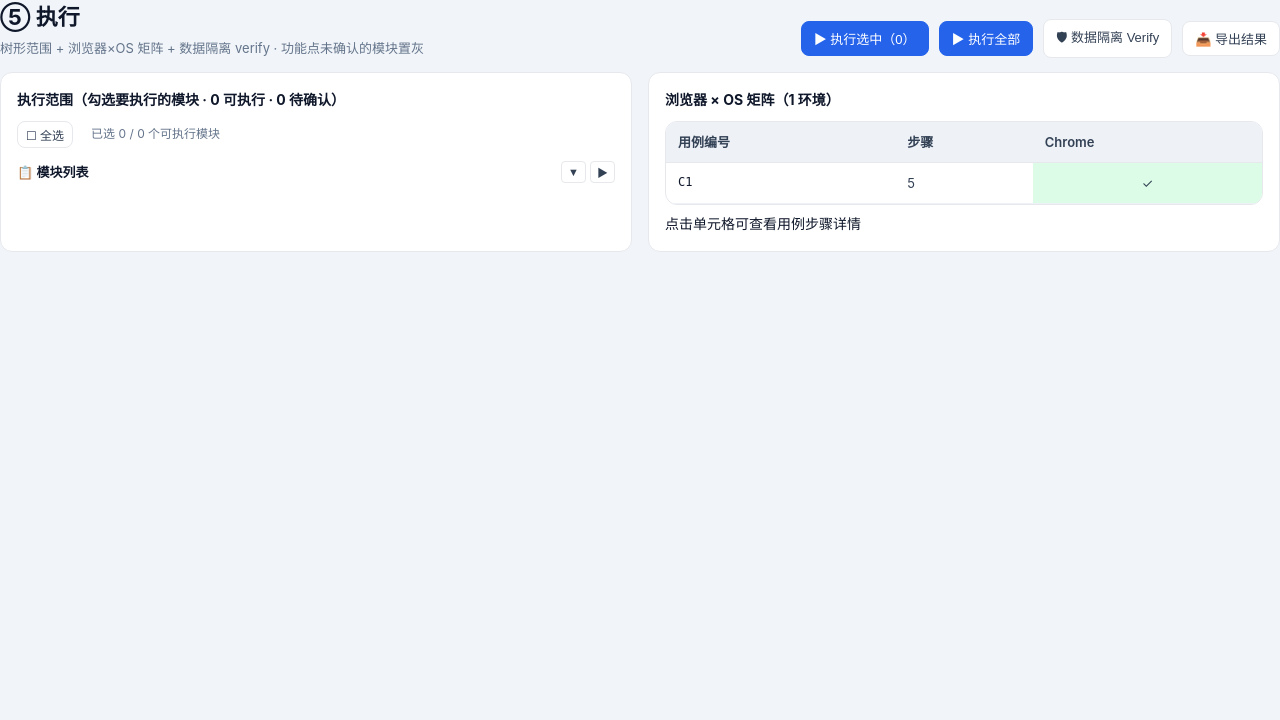
Execute 执行 › 点击矩阵单元格应显示详情Modal
Step 1. Click the text "C1" → coordinates (781, 183), box [666, 163, 895, 204]
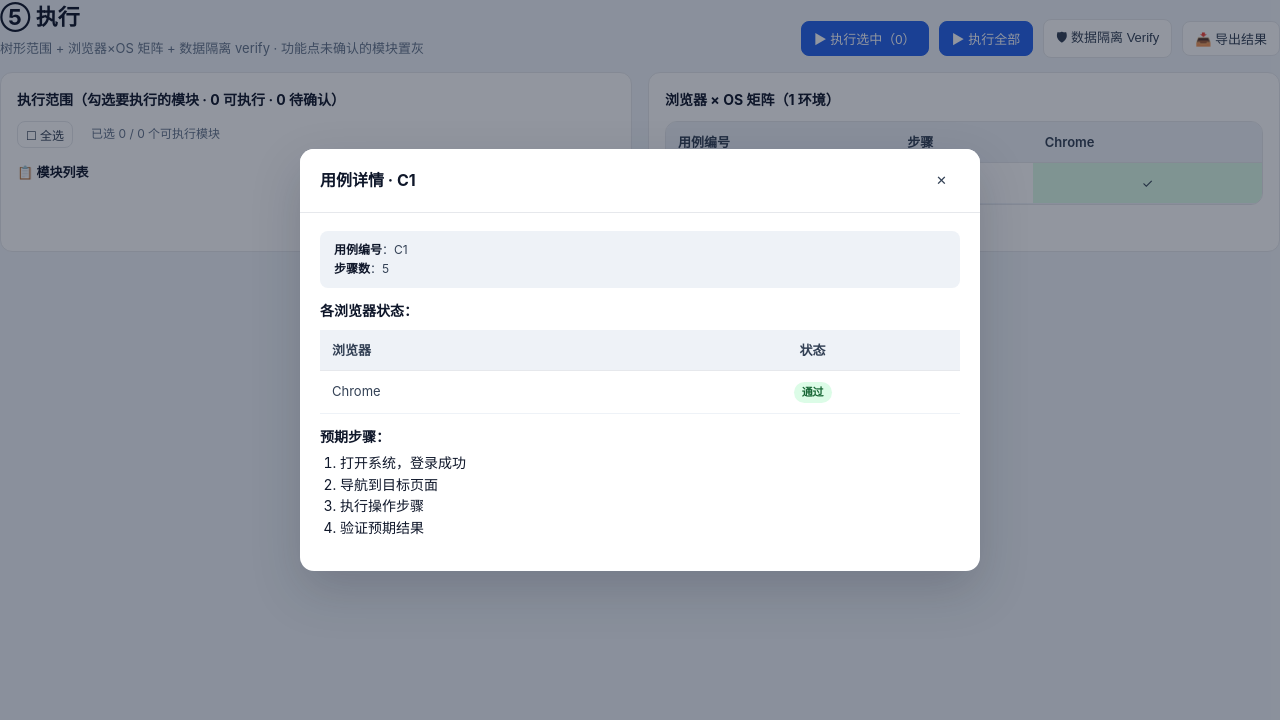
expect the heading "用例详情 · C1" is shown: met, box [320, 168, 416, 193]
